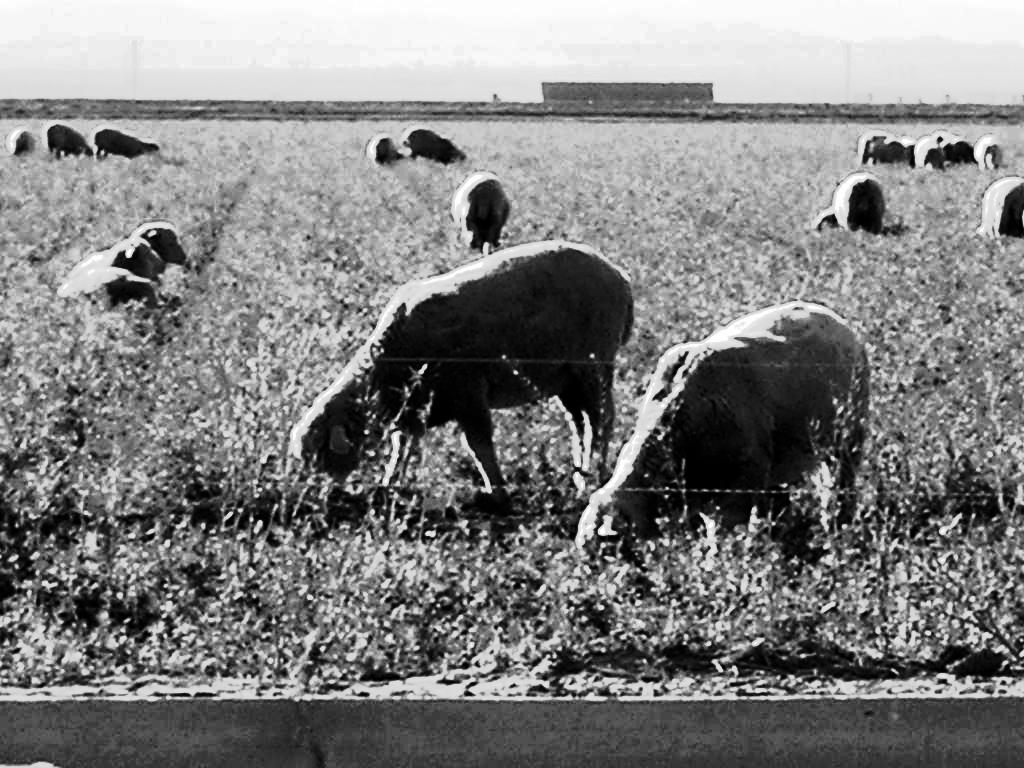Sheep: (290, 242, 634, 516), (571, 300, 865, 560), (56, 234, 169, 302), (439, 171, 520, 259), (78, 222, 186, 268), (815, 174, 887, 242), (978, 174, 1023, 242), (91, 124, 165, 164), (403, 124, 471, 167), (43, 123, 90, 159), (972, 134, 1005, 173), (368, 132, 398, 166), (6, 126, 36, 156)
